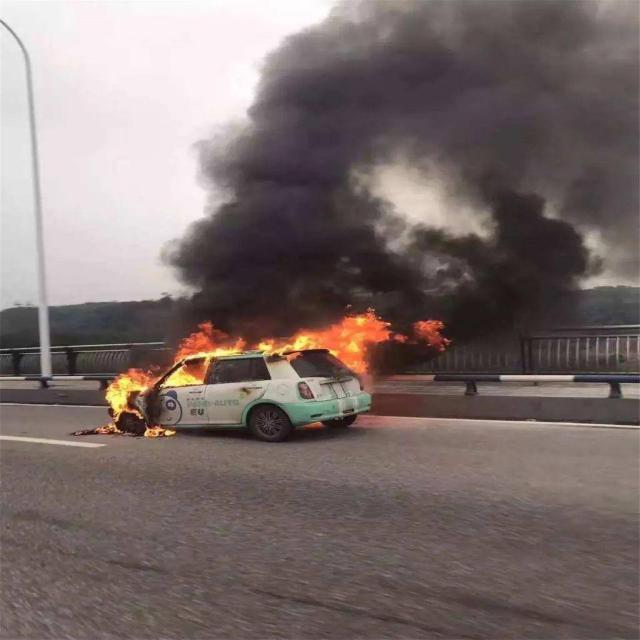Fire: (246, 317, 388, 349), (154, 326, 208, 386), (105, 362, 154, 426), (334, 349, 372, 377)
Smoke: (167, 0, 640, 317)
